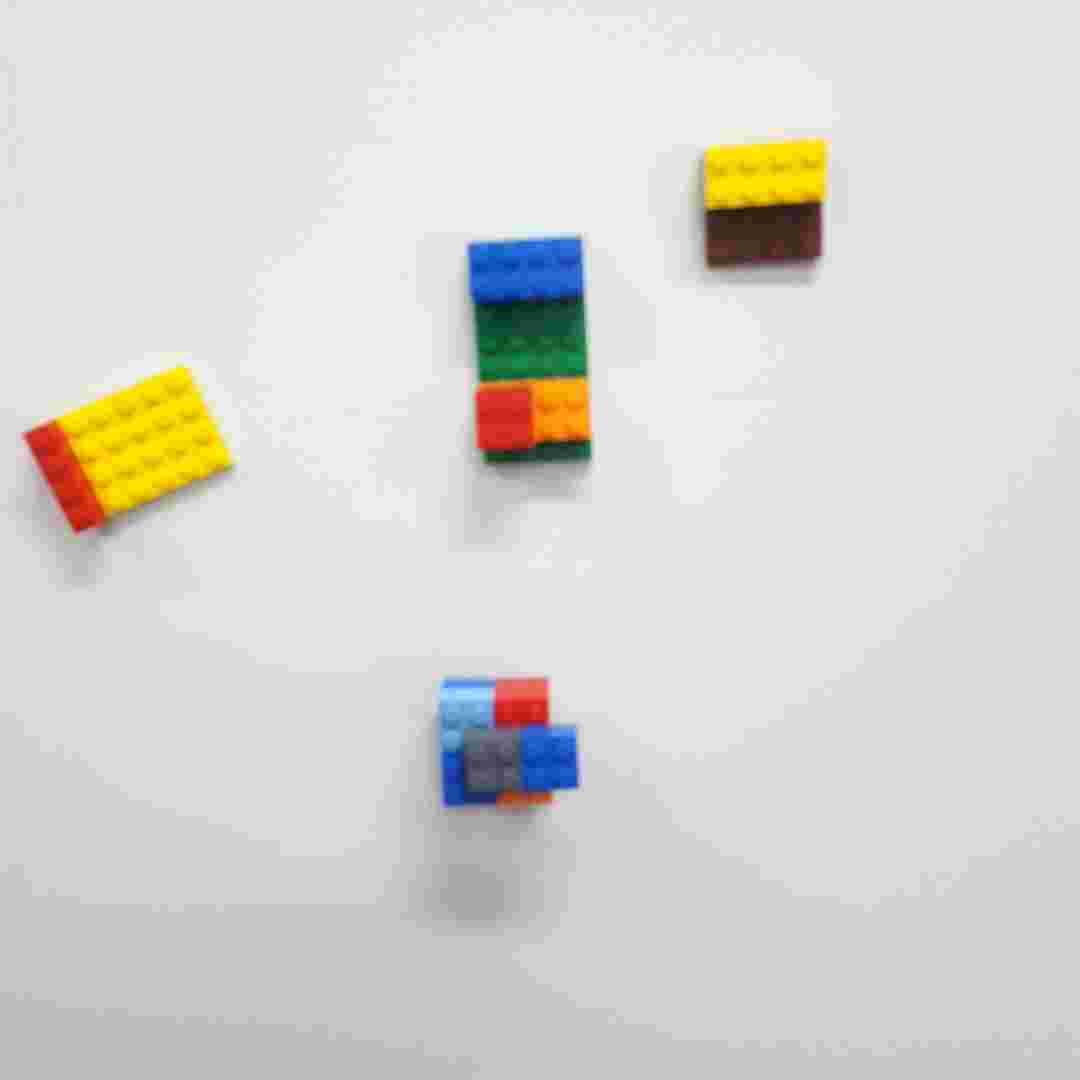LEGO: (15, 360, 244, 541), (459, 232, 614, 480), (432, 667, 587, 816), (700, 134, 831, 268)
